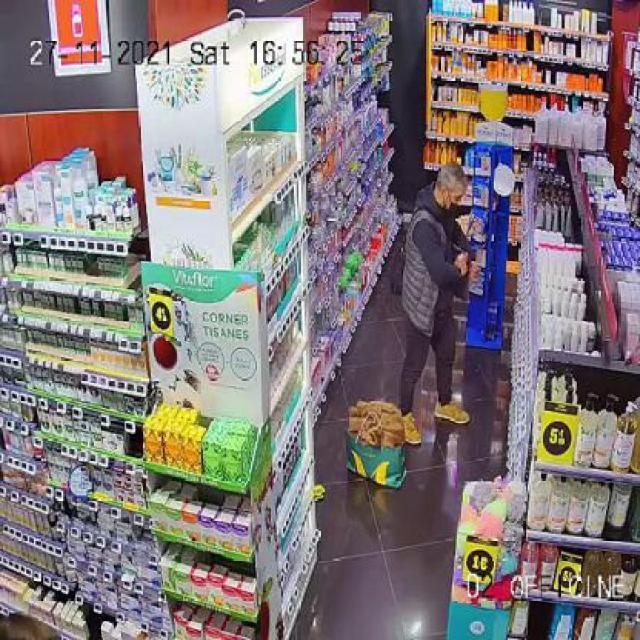Shoplifting: (375, 149, 499, 457)
